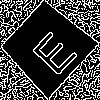E: (23, 22, 79, 78)
